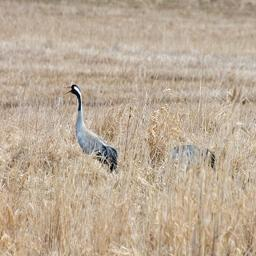bird: (122, 129, 231, 256)
